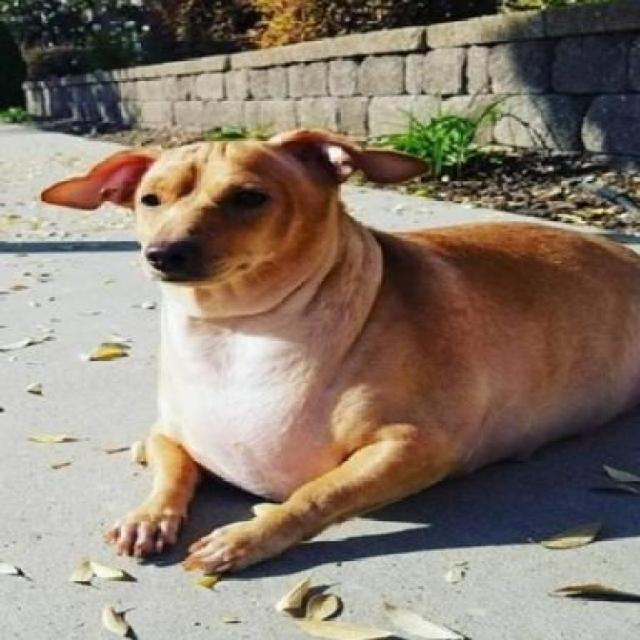Dog: (37, 126, 638, 580)
